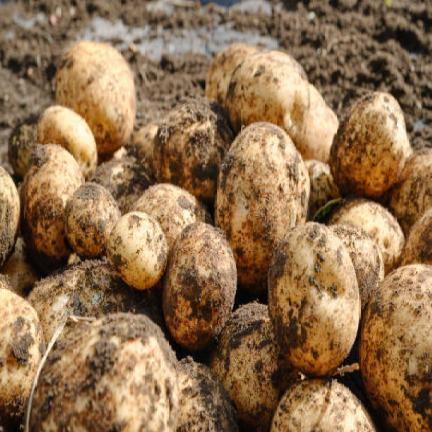potato: (30, 313, 179, 431), (215, 123, 309, 292), (269, 222, 359, 375), (359, 265, 431, 431), (28, 259, 163, 340), (210, 303, 296, 430), (162, 222, 236, 349), (55, 40, 135, 152), (329, 92, 412, 197), (152, 97, 233, 202), (20, 145, 83, 271), (226, 51, 309, 142), (0, 278, 44, 429), (328, 199, 404, 273), (270, 379, 375, 431), (131, 183, 211, 250), (330, 223, 383, 318), (176, 357, 238, 431), (107, 213, 167, 288), (37, 106, 97, 178), (64, 182, 120, 257), (388, 149, 431, 234), (90, 156, 154, 213), (296, 85, 338, 162), (205, 44, 254, 105), (0, 237, 39, 296), (0, 166, 20, 267), (304, 160, 339, 217), (8, 115, 37, 177), (402, 208, 431, 265), (126, 123, 157, 170)
